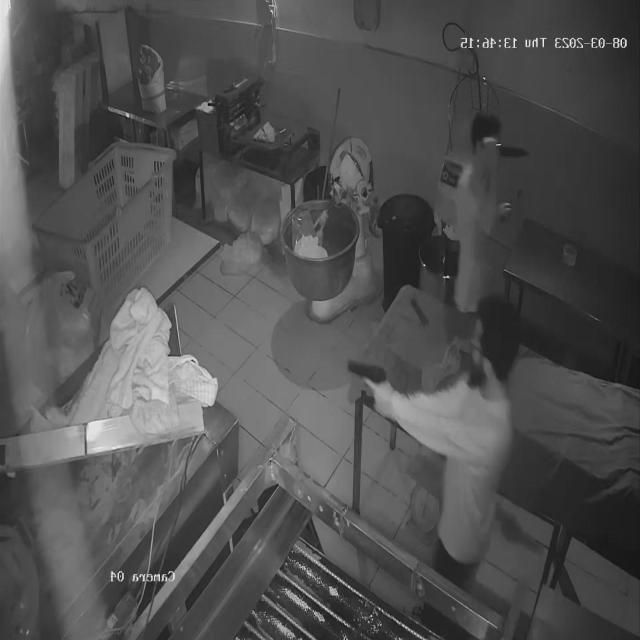Gun: (334, 349, 404, 393)
Knife: (485, 139, 544, 175)
